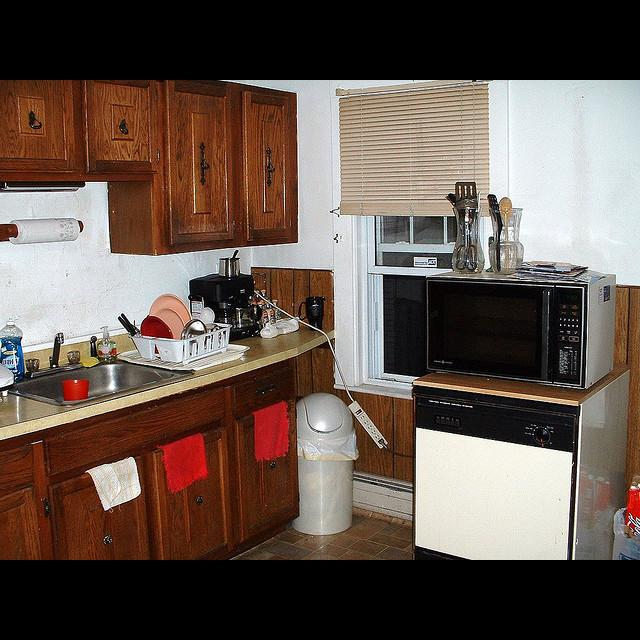Microwave: (426, 269, 615, 390)
